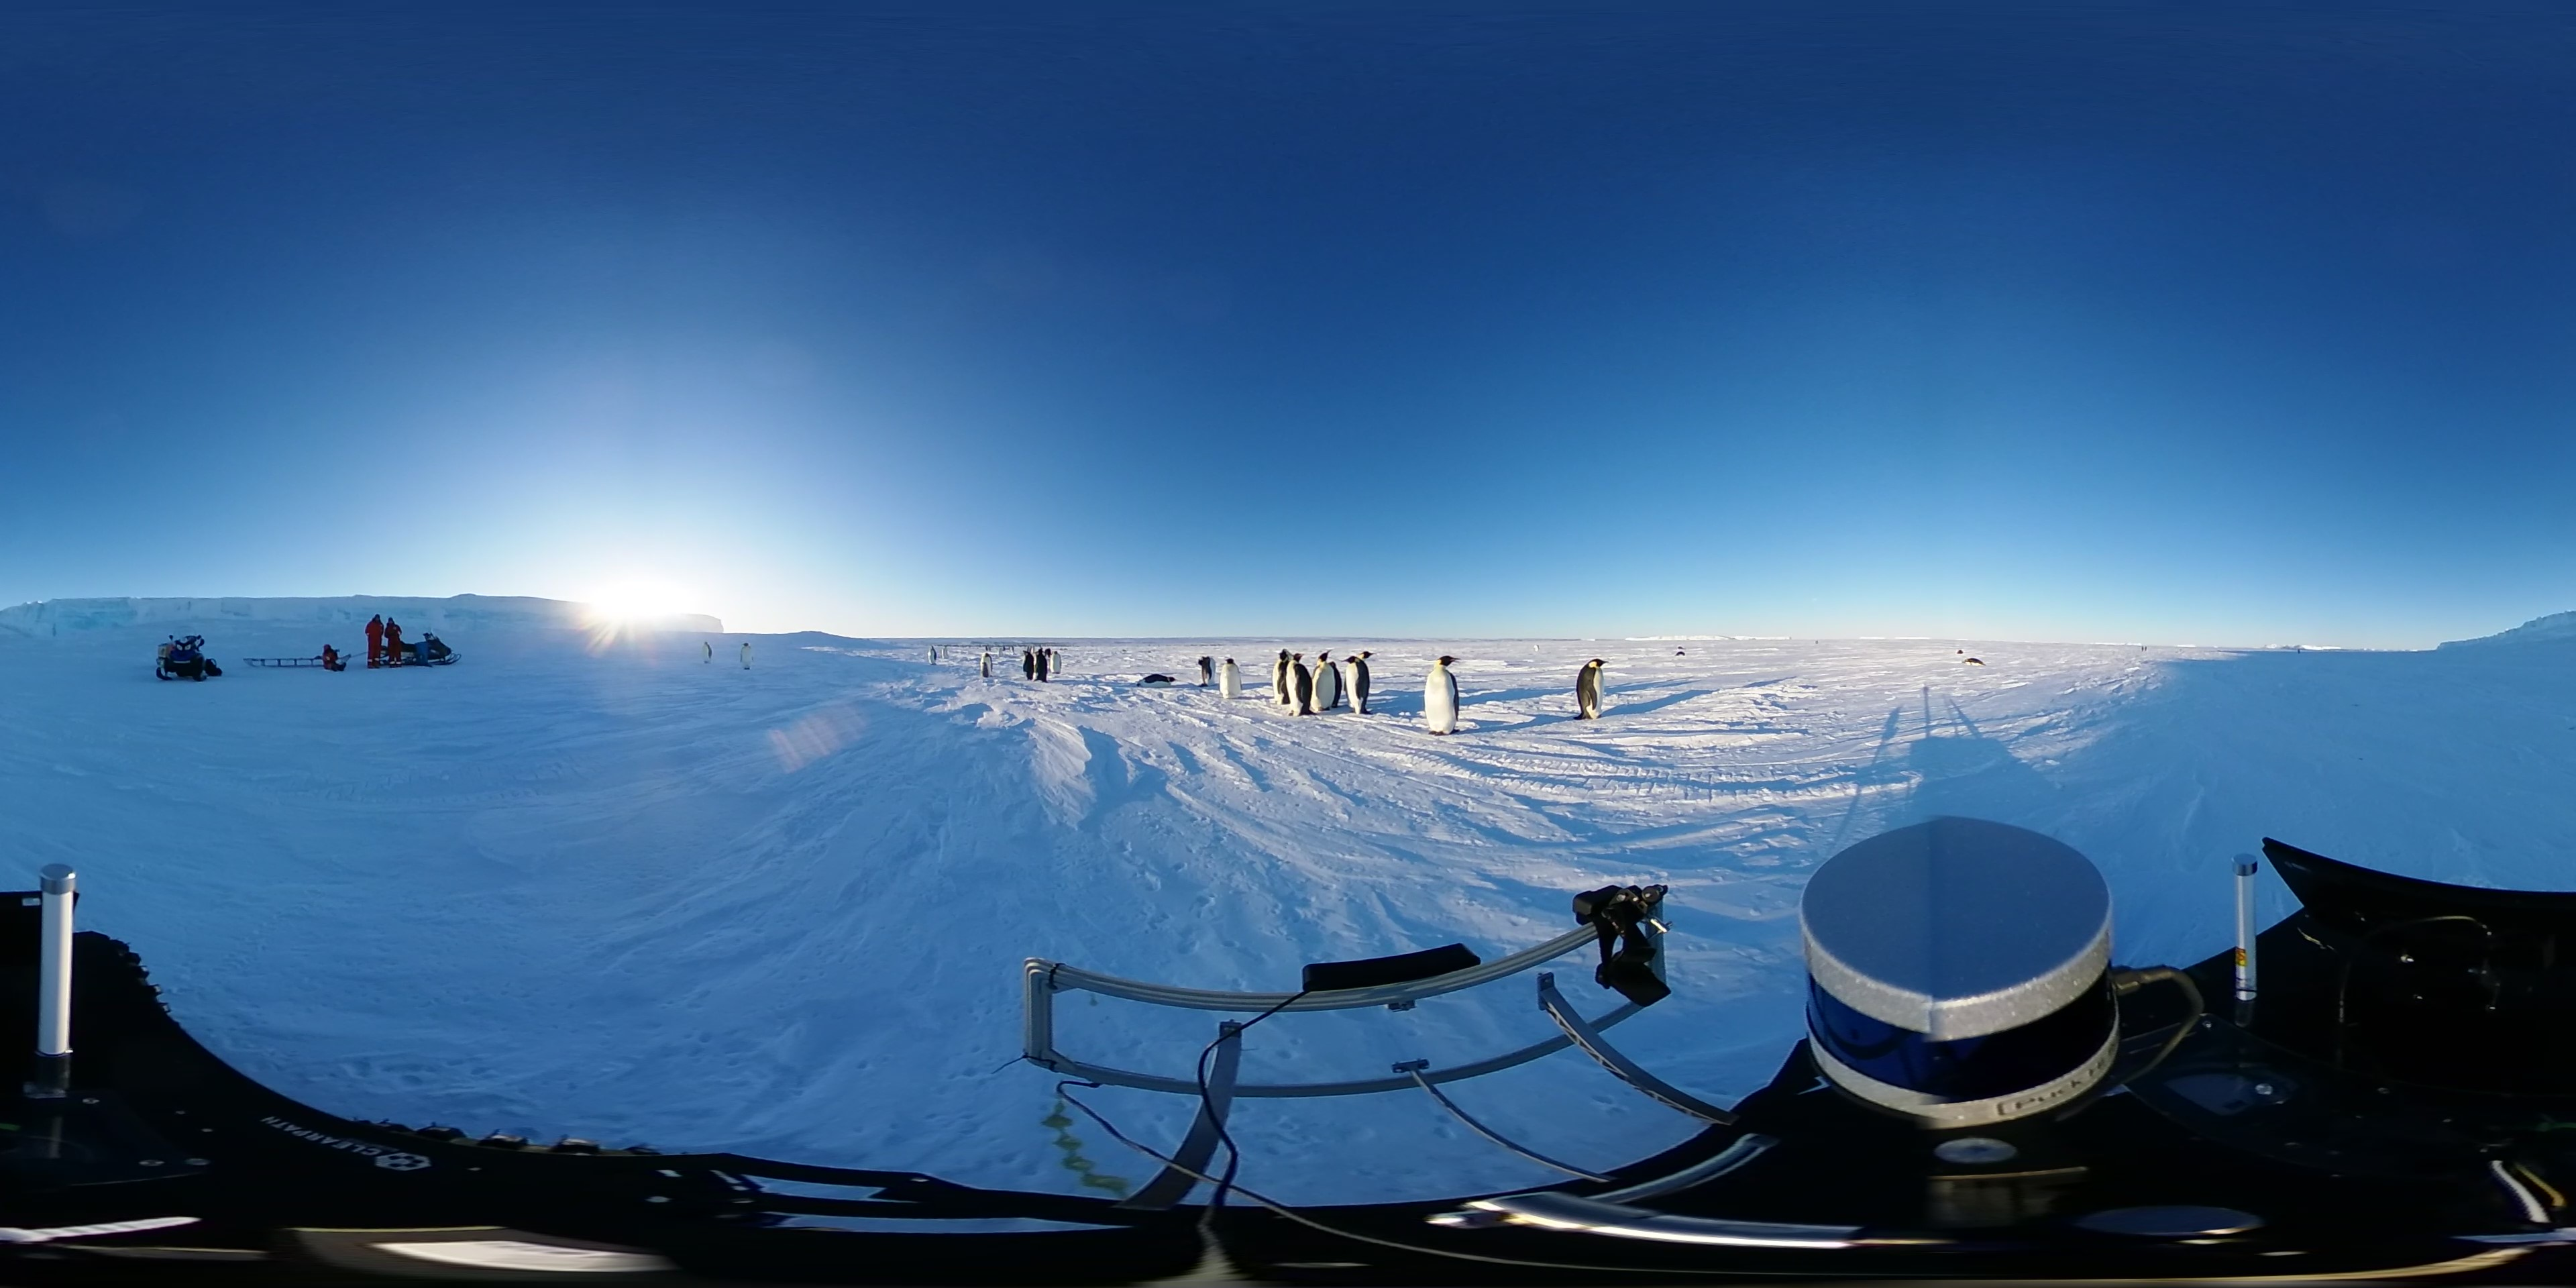adult_standing_penguin: (1421, 654, 1464, 738), (1574, 654, 1610, 723), (1341, 657, 1377, 720), (1288, 652, 1319, 720), (1219, 659, 1247, 701)
adult_toboggan_penguin: (1132, 670, 1180, 693)
researcher: (363, 606, 384, 672), (315, 642, 352, 674), (383, 618, 402, 665)
